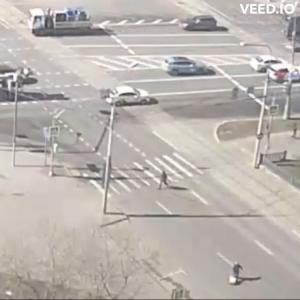car: (26, 6, 96, 37), (109, 86, 157, 108), (166, 57, 205, 78), (251, 57, 290, 74), (184, 16, 220, 34), (269, 67, 300, 85)
